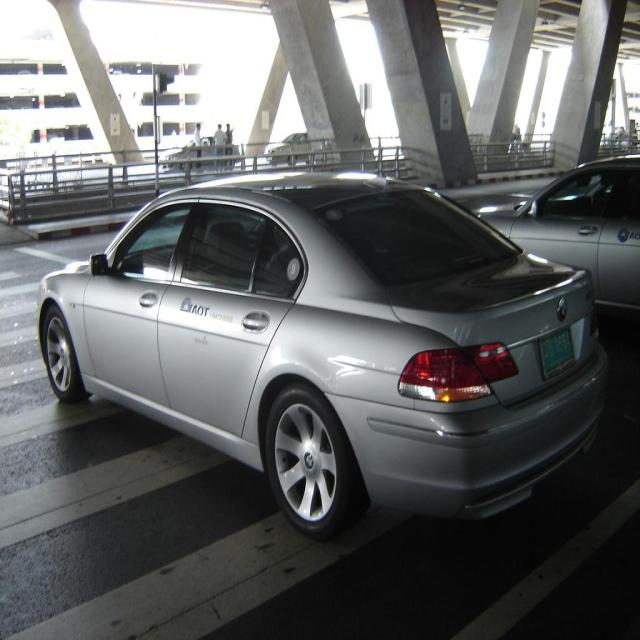car: (25, 168, 611, 553)
